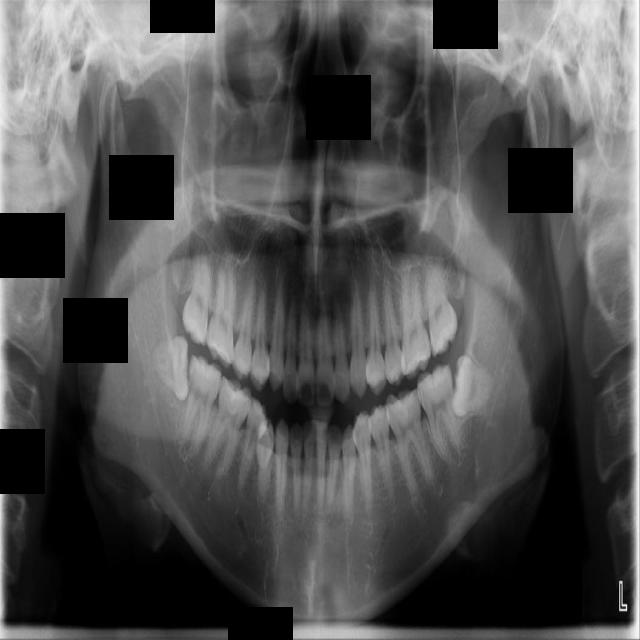73: (594, 537, 596, 555)
BioHorizons Implant: (425, 254, 459, 358)
Biomet 3i Implant: (446, 352, 499, 422)
Blue Sky Bio Implant: (413, 361, 467, 463)
Caries: (181, 244, 215, 344)
Implant: (177, 352, 227, 453)
Keystone Dental Implant: (146, 333, 208, 405)
